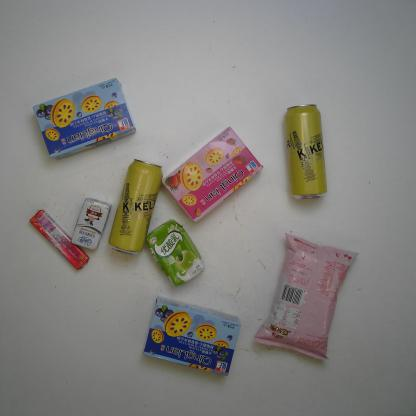Alcohol: (106, 155, 165, 257), (281, 100, 330, 202)
Candy: (27, 207, 92, 273)
Dessert: (159, 123, 265, 225), (30, 74, 138, 162), (138, 292, 244, 378)
Milk: (144, 217, 206, 290), (68, 196, 114, 254)
Puffed Food: (251, 228, 361, 364)
